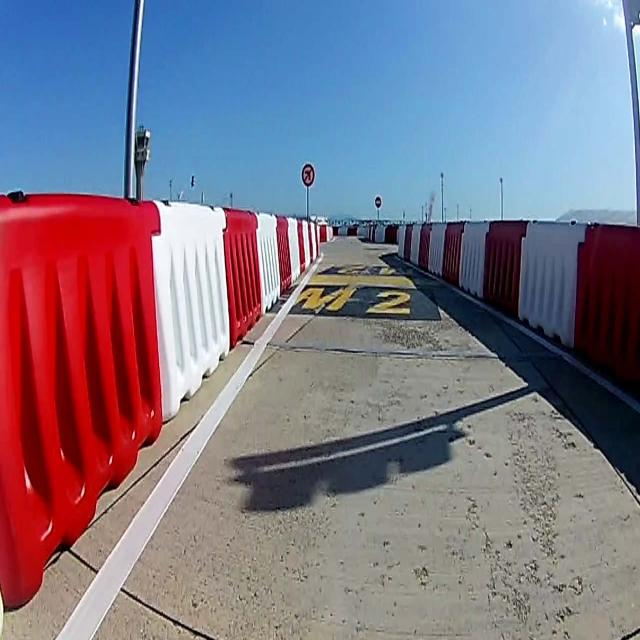girisyok: (374, 196, 382, 208)
soladonulmez: (302, 164, 314, 187)
